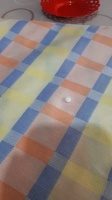Yuvarlak Buskopan: (64, 96, 71, 104)
